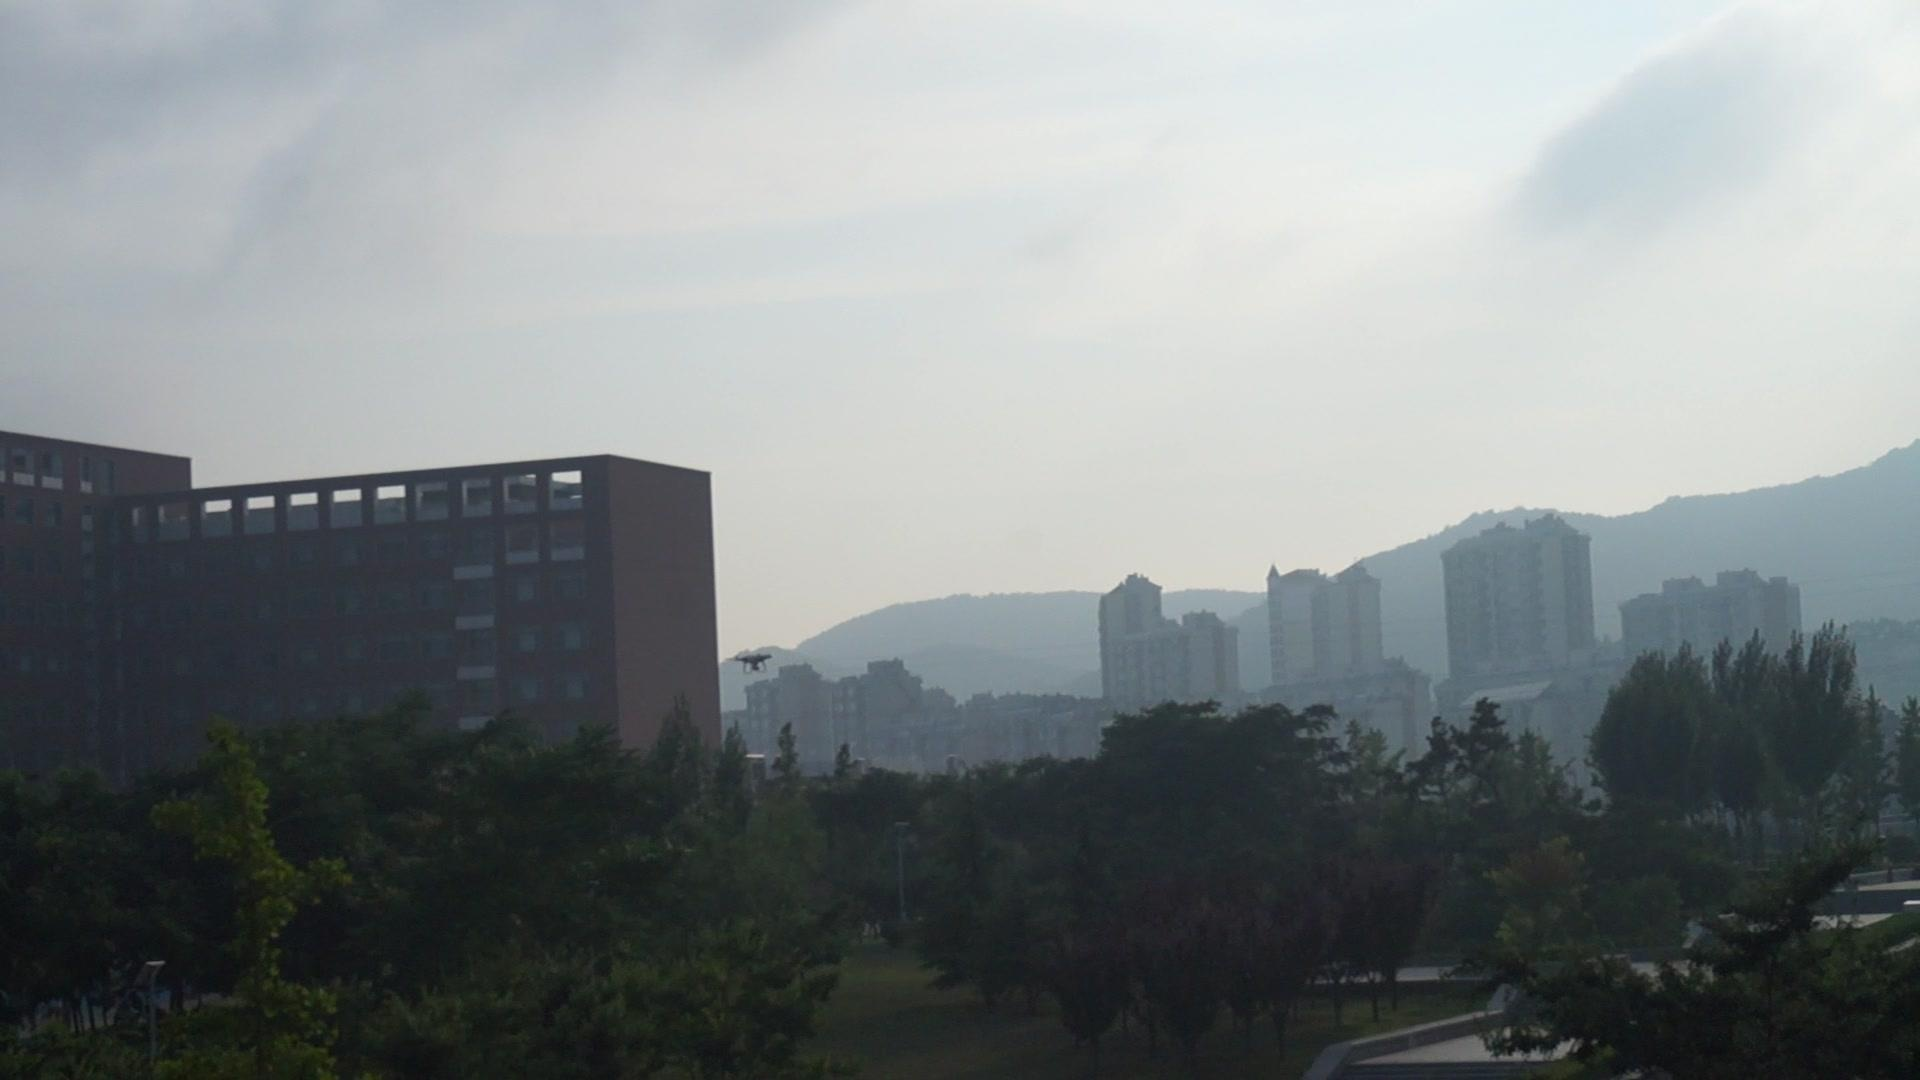UAV: (735, 650, 773, 675)
